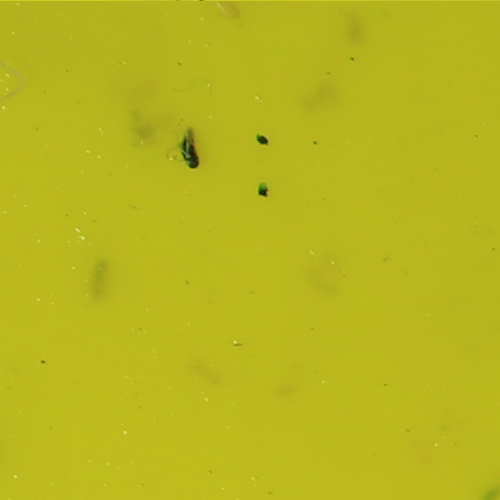wasp: (176, 129, 200, 170)
